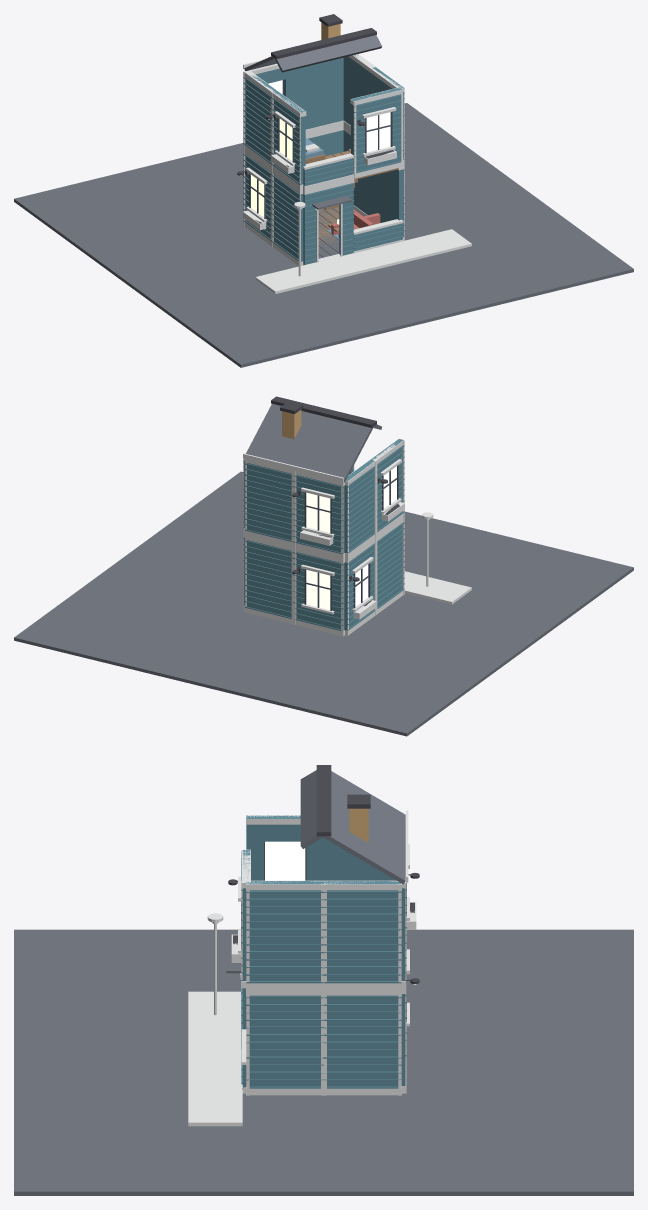
Rendered from assembled_modular_house.glb.
3 renders of one model, top to bottom at view 1: azimuth 30°, elevation 25°; view 2: azimuth 150°, elevation 25°; view 3: azimuth 270°, elevation 25°, orthographic. The views are drawn at different scales.
Visible parts, largest first — view 1: Ground_Sidewalk, ModularSuburbanHouse_WalkIn; view 2: Ground_Sidewalk, ModularSuburbanHouse_WalkIn; view 3: Ground_Sidewalk, ModularSuburbanHouse_WalkIn.
Part boxes in pixels (x1,y1,x2,y2): Ground_Sidewalk: [14, 103, 633, 367]; ModularSuburbanHouse_WalkIn: [237, 14, 404, 265]; Ground_Sidewalk: [14, 471, 633, 736]; ModularSuburbanHouse_WalkIn: [243, 396, 404, 636]; Ground_Sidewalk: [14, 913, 633, 1195]; ModularSuburbanHouse_WalkIn: [226, 765, 419, 1095].
Size of the model in its own units: 16 by 7.93 by 16.
